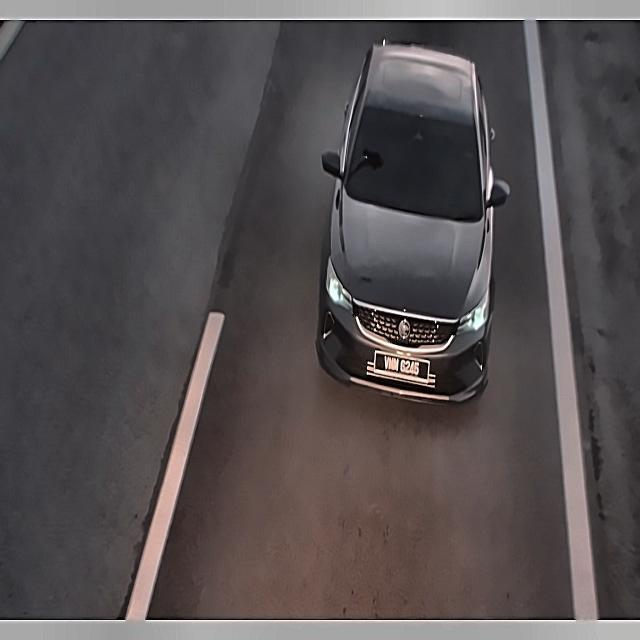car: (371, 344, 433, 387)
